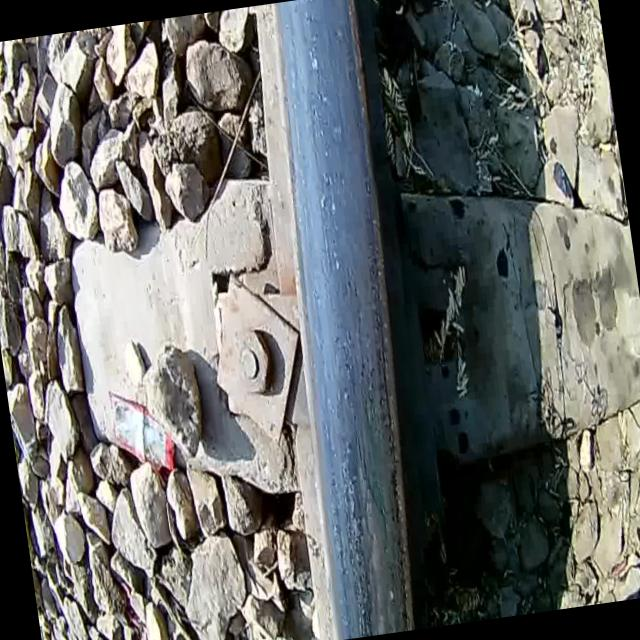Squats: (230, 0, 460, 640)
